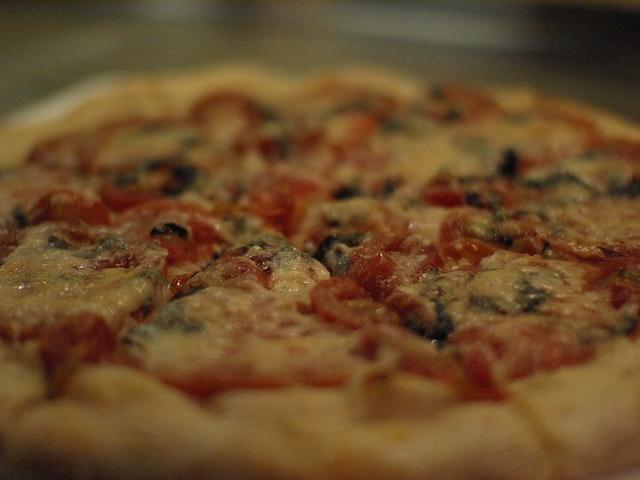mushroom: (118, 300, 201, 354), (407, 298, 454, 350), (312, 232, 366, 276), (148, 216, 192, 239), (165, 164, 196, 194), (270, 250, 312, 268), (467, 224, 505, 243), (497, 147, 518, 179), (243, 246, 273, 263), (260, 233, 288, 249)
tomato: (36, 312, 118, 395), (25, 188, 111, 228), (458, 348, 514, 403), (308, 277, 364, 329), (344, 252, 397, 302), (100, 185, 165, 214), (440, 238, 495, 264), (154, 233, 198, 264), (232, 136, 284, 161), (420, 184, 464, 210), (283, 192, 306, 238), (488, 176, 516, 206), (292, 131, 324, 157)
